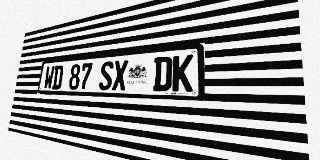7: (79, 63, 93, 90)
8: (68, 64, 81, 90)
D: (152, 56, 172, 91), (52, 65, 64, 89)
K: (172, 54, 193, 92)
S: (98, 61, 114, 90)
W: (43, 66, 55, 89)
X: (112, 60, 128, 90)
